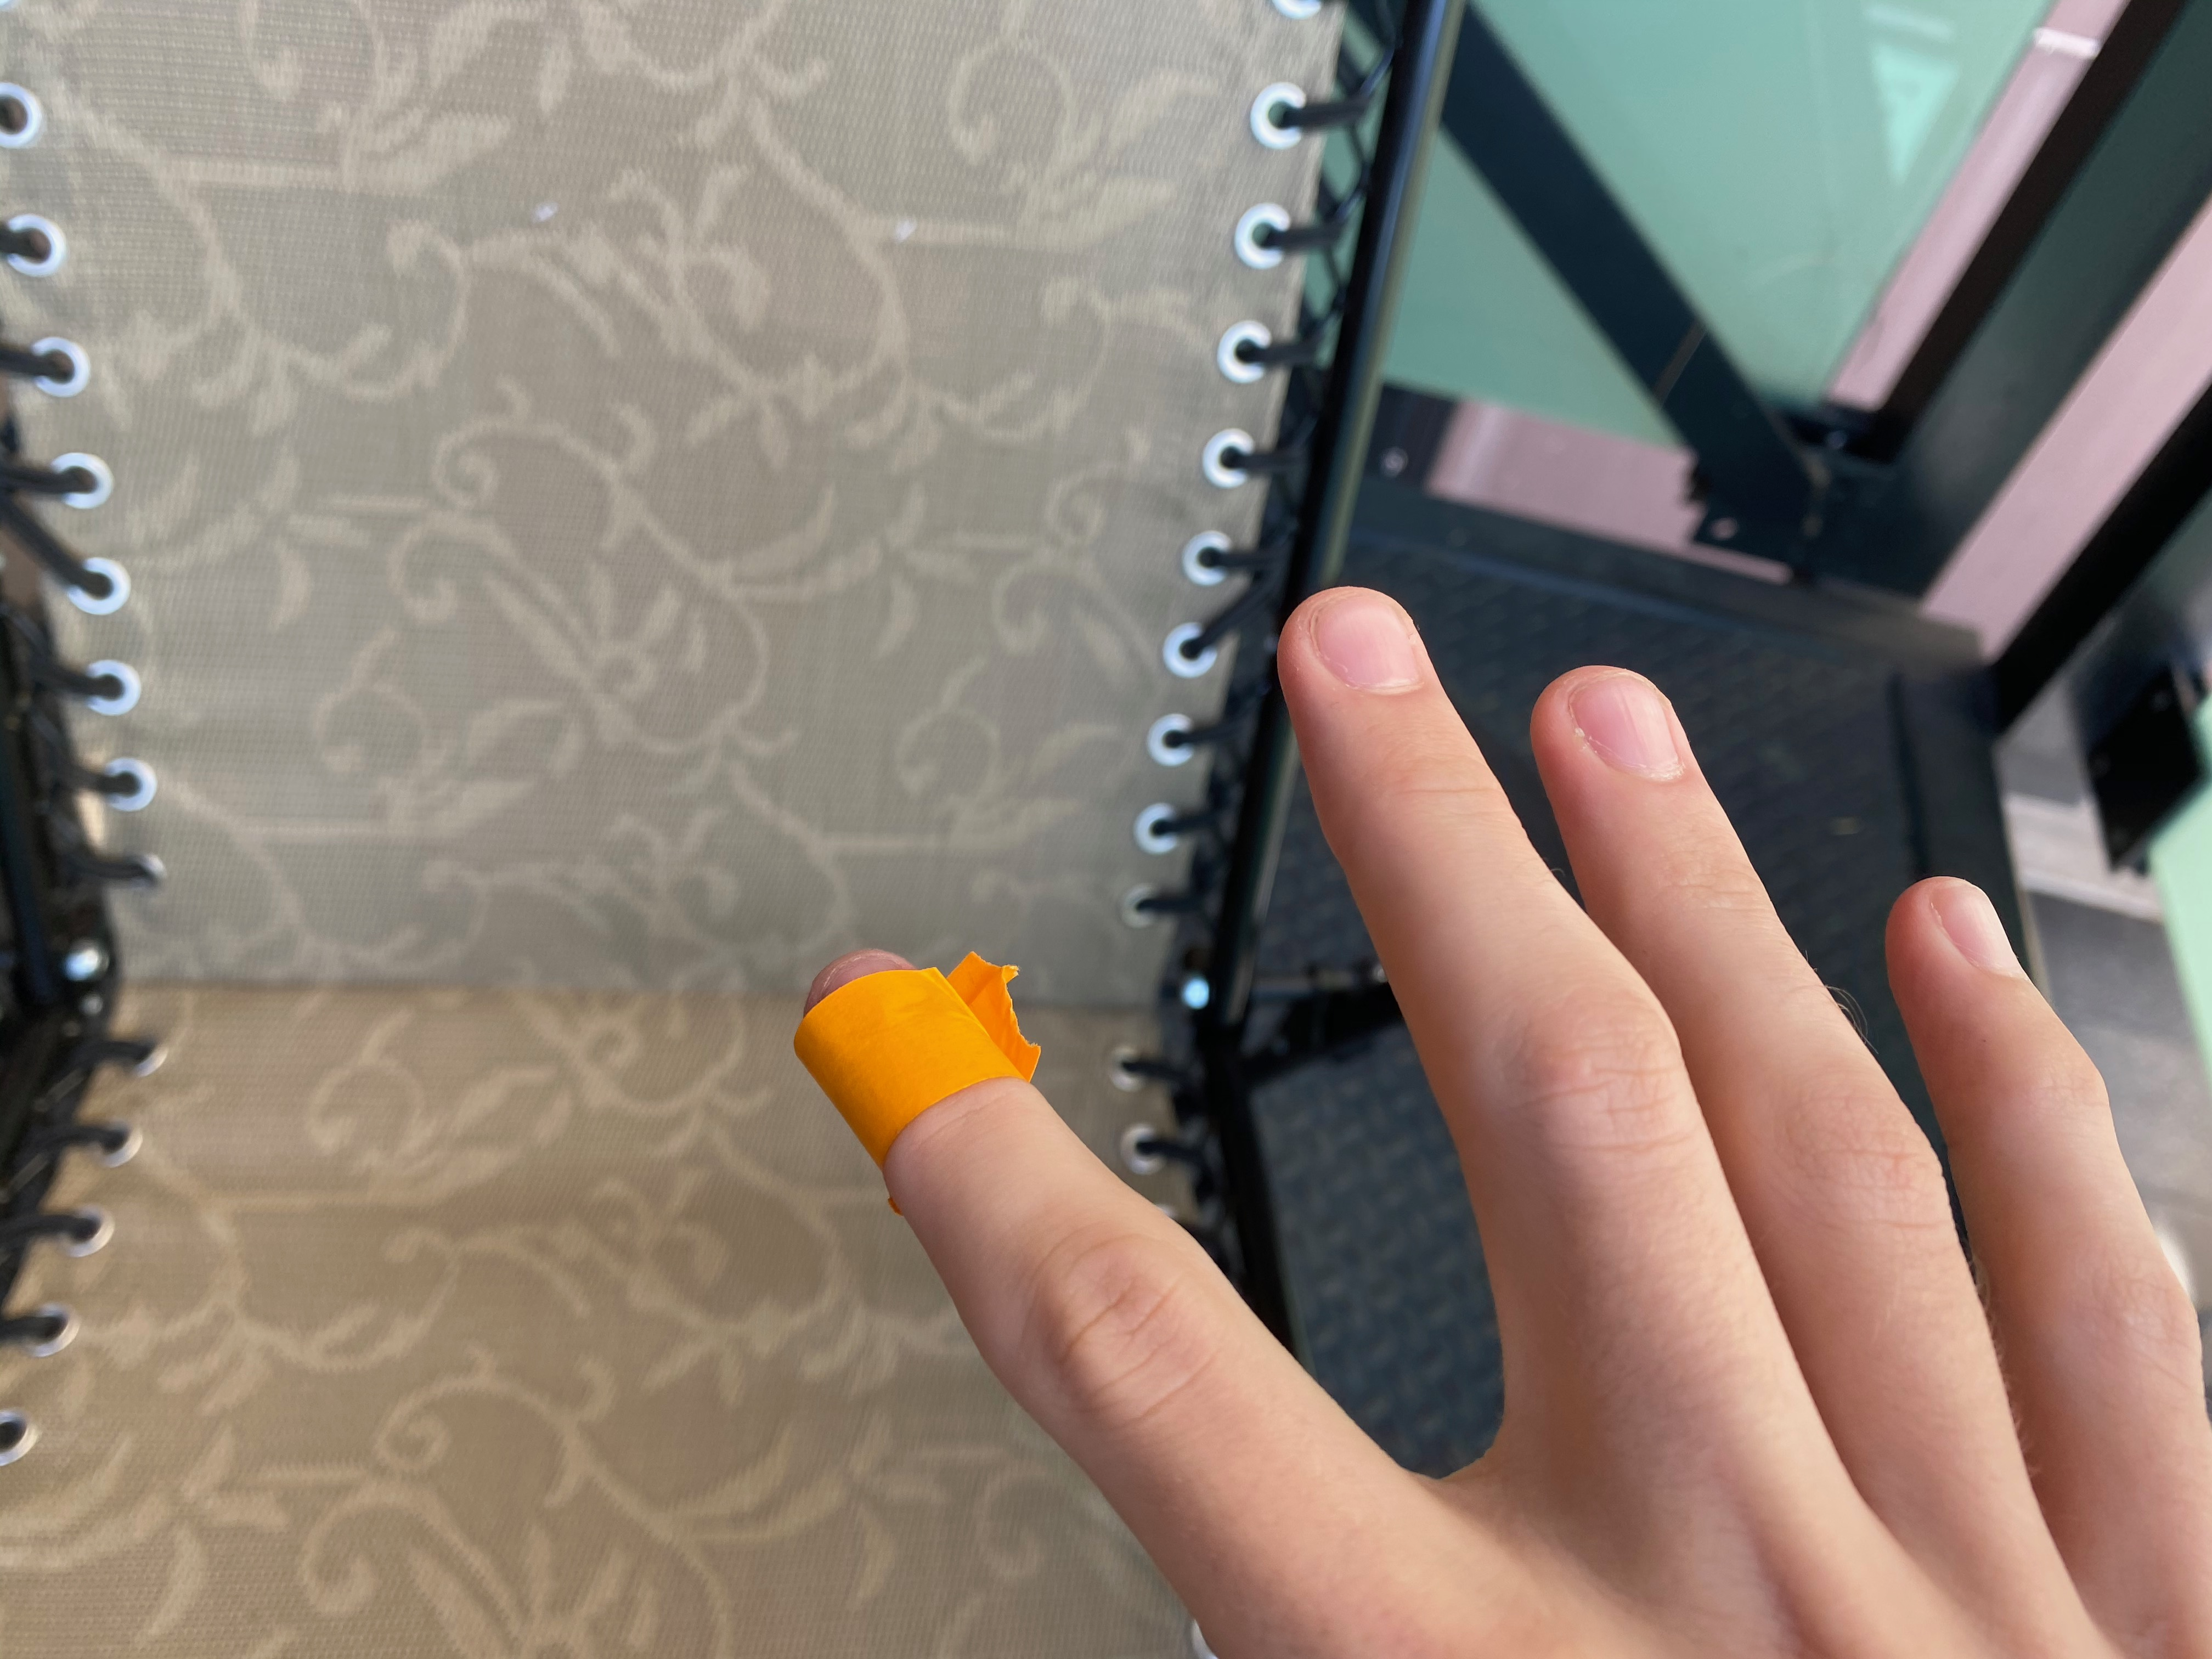fingertip: (777, 924, 1038, 1195)
